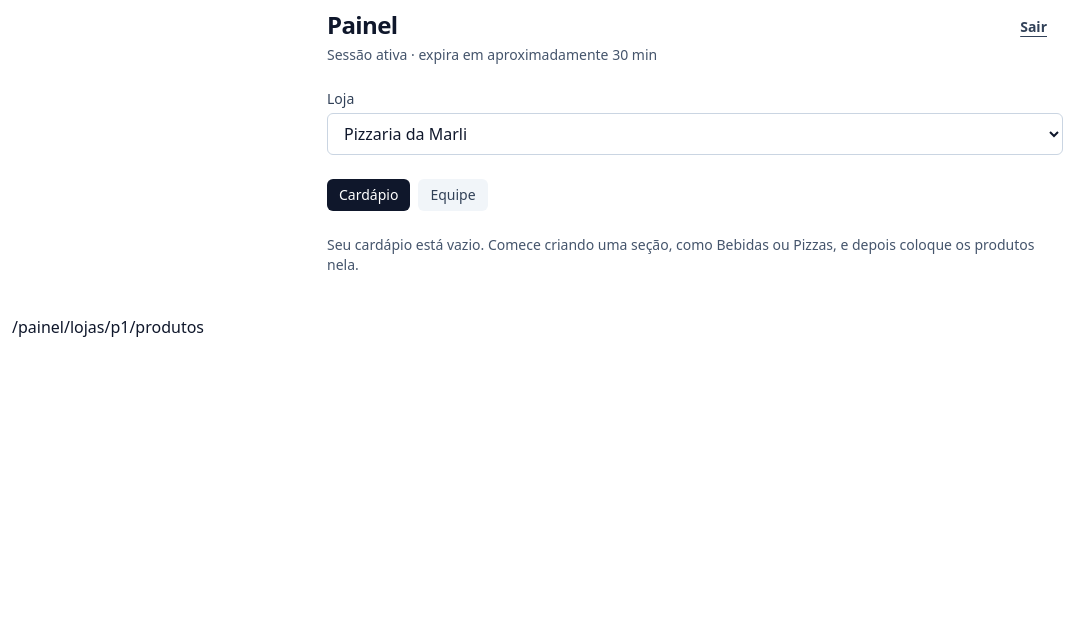
Scenario: PainelPage › A1 · a seção Equipe só aparece na loja em que se tem GERENCIAR_EQUIPE
Click the button "Equipe" at (453, 195), box [418,179,488,211]
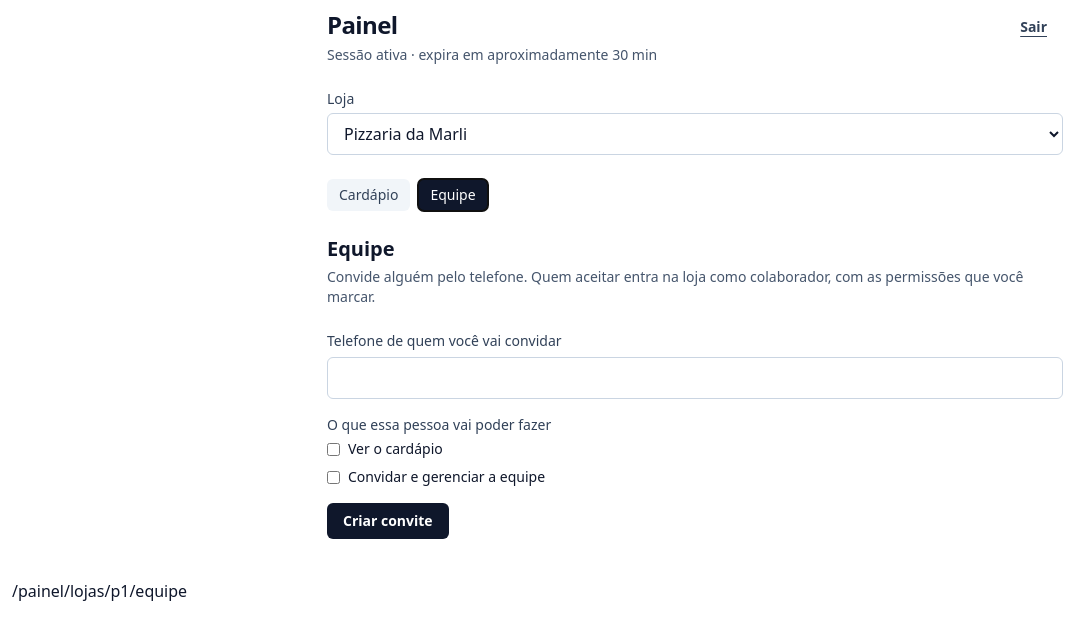
Check: the text with test id "onde-estou" reads "/painel/lojas/p1/equipe", box [12,580,187,602]
Check: the heading "Equipe" is shown, box [327,235,395,262]
